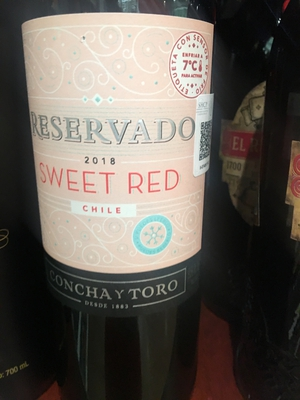reservado sweet red: (19, 9, 219, 381)
